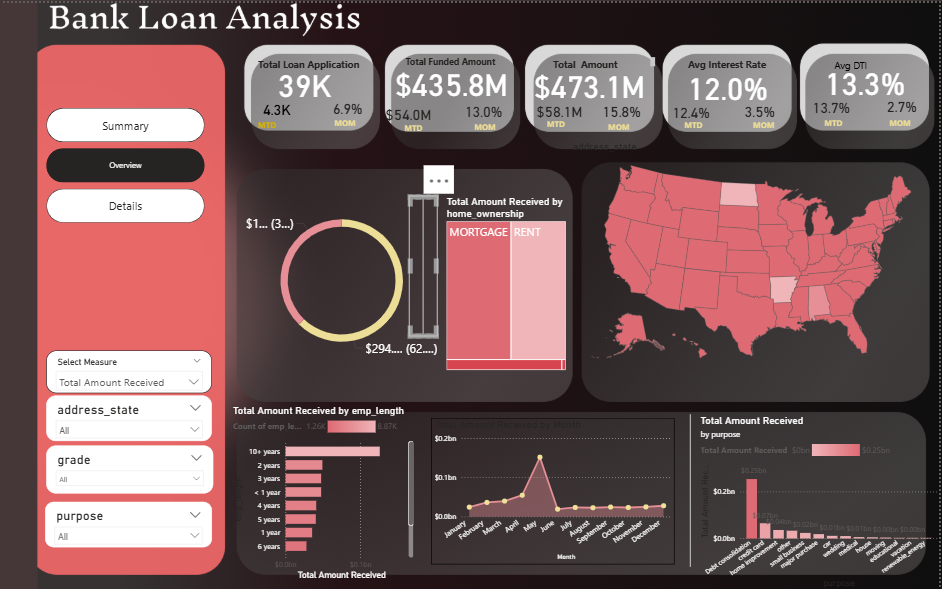

Layout of this report page (visuals, bound fields, positions):
{"tool":"powerbi","page":{"name":"Overview","canvas":[1280,720],"ordinal":0},"visuals":[{"type":"card","fields":{"Values":["bank_loan_data.Total Loan Applications"]},"box":[414.5,94.2,91.7,36.7],"z":0},{"type":"card","fields":{"Values":["Date Table.MTD Loan Applications"]},"box":[382.7,113.7,66,28.1],"z":1000},{"type":"card","fields":{"Values":["Date Table.MOM Loan Application"]},"box":[475.7,114.9,61.1,25.7],"z":2000},{"type":"card","fields":{"Values":["Date Table.MOM Total Funded Amount"]},"box":[648.1,108.8,88,44],"z":3000},{"type":"card","fields":{"Values":["Date Table.Total Funded Amount"]},"box":[587,91.7,127.2,29.3],"z":4000},{"type":"card","fields":{"Values":["Date Table.Total Amount Received"]},"box":[748.4,90.5,144.3,28.1],"z":5000},{"type":"card","fields":{"Values":["Date Table.MTD Total Amount Received"]},"box":[748.4,113.7,78.3,25.7],"z":6000},{"type":"card","fields":{"Values":["Date Table.MOM Total  Amount Received"]},"box":[835.2,112.5,58.7,25.7],"z":7000},{"type":"slicer","fields":{"Values":["bank_loan_data.address_state"]},"box":[70,278,190,68],"z":9000},{"type":"slicer","fields":{"Values":["bank_loan_data.purpose"]},"box":[69,354,190,65],"z":10000},{"type":"slicer","fields":{"Values":["bank_loan_data.grade"]},"box":[68,422,192,61],"z":11000},{"type":"textbox","box":[602.9,68.5,121.1,33],"z":12000},{"type":"textbox","box":[770.4,69.7,129.6,34.2],"z":13000},{"type":"textbox","box":[414.5,70.9,179.8,34.2],"z":14000},{"type":"textbox","box":[676.2,135.7,47.7,28.1],"z":15000},{"type":"textbox","box":[590.6,134.5,48.9,33],"z":16000},{"type":"textbox","box":[1120.1,140.6,48.9,26.9],"z":17000},{"type":"shapeMap","fields":{"Category":["bank_loan_data.address_state"]},"box":[870.7,216.4,409.6,199.3],"z":18000},{"type":"donutChart","fields":{"Y":["Date Table.Total Amount Received"],"Category":["bank_loan_data.term"]},"box":[366.8,227.4,249.5,177.3],"z":19000},{"type":"stackedAreaChart","fields":{"Y":["Date Table.Total Amount Received"],"Category":["bank_loan_data.last_credit_pull_date.Variation.Date Hierarchy.Month"]},"box":[656.7,472,260.5,225],"z":20000},{"type":"clusteredBarChart","fields":{"Y":["Date Table.Total Amount Received"],"Category":["bank_loan_data.emp_length"]},"box":[410.9,472,237.2,225],"z":21000},{"type":"treemap","fields":{"Values":["Date Table.Total Amount Received"],"Group":["bank_loan_data.home_ownership"]},"box":[620,220.1,222.6,183.4],"z":23000},{"type":"slicer","fields":{"Values":["Select Measure.Select Measure"]},"box":[67,491,192,77],"z":24000},{"type":"shape","box":[590.6,211.6,35.5,192],"z":25000},{"type":"shape","box":[1132.7,685.5,34.5,254.5],"z":26000},{"type":"pageNavigator","box":[73.4,99,181,152.9],"z":27000},{"type":"textbox","box":[399.9,134.5,48.9,33],"z":28000},{"type":"textbox","box":[846.2,132.1,47.7,29.3],"z":29000},{"type":"textbox","box":[763,134.5,48.9,33],"z":30000},{"type":"textbox","box":[481.8,134.5,47.7,29.3],"z":31000},{"type":"textbox","box":[948.9,68.5,135.7,40.4],"z":32000},{"type":"textbox","box":[1149.5,72.1,124.7,28.1],"z":33000},{"type":"textbox","box":[1033.3,126,46.5,29.3],"z":34000},{"type":"textbox","box":[1231.4,141.8,48.9,36.7],"z":35000},{"type":"textbox","box":[939.1,132.1,50.1,31.8],"z":36000},{"type":"card","fields":{"Values":["Date Table.MOM Avg DTI"]},"box":[1231.4,121.1,48.9,25.7],"z":38000},{"type":"card","fields":{"Values":["Date Table.MTD Avg DTI"]},"box":[1120.1,122.3,59.9,22],"z":39000},{"type":"card","fields":{"Values":["Date Table.MOM Avg Interest Rate"]},"box":[1033.3,112.5,51.4,28.1],"z":40000},{"type":"card","fields":{"Values":["Date Table.MTD Avg Int Rate"]},"box":[917.1,107.6,62.4,30.6],"z":41000},{"type":"card","fields":{"Values":["Date Table.Avg DTI"]},"box":[1150.7,97.8,81.9,30.6],"z":42000},{"type":"card","fields":{"Values":["Date Table.Avg interest rate"]},"box":[966,89.3,81.9,37.9],"z":43000},{"type":"card","fields":{"Values":["Date Table.MTD Funded Amount"]},"box":[582.1,117.4,68.5,28.1],"z":44000},{"type":"columnChart","fields":{"Category":["bank_loan_data.purpose"],"Y":["Date Table.Total Amount Received"]},"box":[939.1,472,316.7,248.2],"z":45000}]}

Visuals, with their boxes on the page's 1280x720 design canvas (x1, y1, x2, y2). These are canvas units, not pixel positions in the 942x589 screenshot, which may show the page scaled, cropped or inside an application window:
card - bank_loan_data.Total Loan Applications: {"left": 414, "top": 94, "right": 506, "bottom": 131}
card - Date Table.MTD Loan Applications: {"left": 383, "top": 114, "right": 449, "bottom": 142}
card - Date Table.MOM Loan Application: {"left": 476, "top": 115, "right": 537, "bottom": 141}
card - Date Table.MOM Total Funded Amount: {"left": 648, "top": 109, "right": 736, "bottom": 153}
card - Date Table.Total Funded Amount: {"left": 587, "top": 92, "right": 714, "bottom": 121}
card - Date Table.Total Amount Received: {"left": 748, "top": 90, "right": 893, "bottom": 119}
card - Date Table.MTD Total Amount Received: {"left": 748, "top": 114, "right": 827, "bottom": 139}
card - Date Table.MOM Total  Amount Received: {"left": 835, "top": 112, "right": 894, "bottom": 138}
slicer - bank_loan_data.address_state: {"left": 70, "top": 278, "right": 260, "bottom": 346}
slicer - bank_loan_data.purpose: {"left": 69, "top": 354, "right": 259, "bottom": 419}
slicer - bank_loan_data.grade: {"left": 68, "top": 422, "right": 260, "bottom": 483}
textbox: {"left": 603, "top": 68, "right": 724, "bottom": 102}
textbox: {"left": 770, "top": 70, "right": 900, "bottom": 104}
textbox: {"left": 414, "top": 71, "right": 594, "bottom": 105}
textbox: {"left": 676, "top": 136, "right": 724, "bottom": 164}
textbox: {"left": 591, "top": 134, "right": 640, "bottom": 168}
textbox: {"left": 1120, "top": 141, "right": 1169, "bottom": 168}
shapeMap - bank_loan_data.address_state: {"left": 871, "top": 216, "right": 1280, "bottom": 416}
donutChart - Date Table.Total Amount Received x bank_loan_data.term: {"left": 367, "top": 227, "right": 616, "bottom": 405}
stackedAreaChart - Date Table.Total Amount Received x bank_loan_data.last_credit_pull_date.Variation.Date Hierarchy.Month: {"left": 657, "top": 472, "right": 917, "bottom": 697}
clusteredBarChart - Date Table.Total Amount Received x bank_loan_data.emp_length: {"left": 411, "top": 472, "right": 648, "bottom": 697}
treemap - Date Table.Total Amount Received x bank_loan_data.home_ownership: {"left": 620, "top": 220, "right": 843, "bottom": 404}
slicer - Select Measure.Select Measure: {"left": 67, "top": 491, "right": 259, "bottom": 568}
shape: {"left": 591, "top": 212, "right": 626, "bottom": 404}
shape: {"left": 1133, "top": 686, "right": 1167, "bottom": 940}
pageNavigator: {"left": 73, "top": 99, "right": 254, "bottom": 252}
textbox: {"left": 400, "top": 134, "right": 449, "bottom": 168}
textbox: {"left": 846, "top": 132, "right": 894, "bottom": 161}
textbox: {"left": 763, "top": 134, "right": 812, "bottom": 168}
textbox: {"left": 482, "top": 134, "right": 530, "bottom": 164}
textbox: {"left": 949, "top": 68, "right": 1085, "bottom": 109}
textbox: {"left": 1150, "top": 72, "right": 1274, "bottom": 100}
textbox: {"left": 1033, "top": 126, "right": 1080, "bottom": 155}
textbox: {"left": 1231, "top": 142, "right": 1280, "bottom": 178}
textbox: {"left": 939, "top": 132, "right": 989, "bottom": 164}
card - Date Table.MOM Avg DTI: {"left": 1231, "top": 121, "right": 1280, "bottom": 147}
card - Date Table.MTD Avg DTI: {"left": 1120, "top": 122, "right": 1180, "bottom": 144}
card - Date Table.MOM Avg Interest Rate: {"left": 1033, "top": 112, "right": 1085, "bottom": 141}
card - Date Table.MTD Avg Int Rate: {"left": 917, "top": 108, "right": 980, "bottom": 138}
card - Date Table.Avg DTI: {"left": 1151, "top": 98, "right": 1233, "bottom": 128}
card - Date Table.Avg interest rate: {"left": 966, "top": 89, "right": 1048, "bottom": 127}
card - Date Table.MTD Funded Amount: {"left": 582, "top": 117, "right": 651, "bottom": 146}
columnChart - bank_loan_data.purpose x Date Table.Total Amount Received: {"left": 939, "top": 472, "right": 1256, "bottom": 720}
